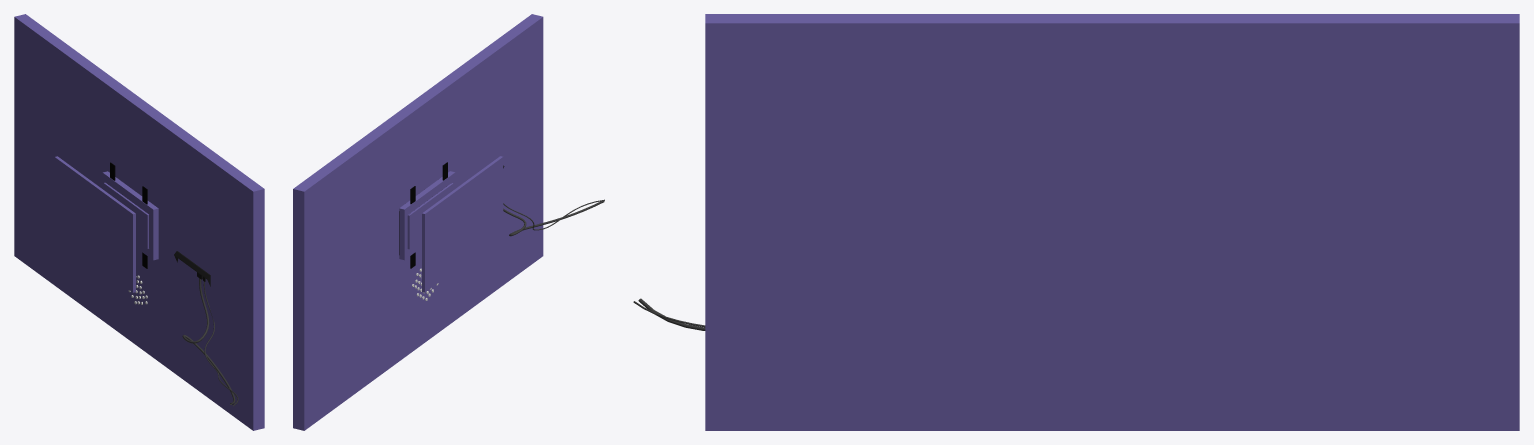
File: ecran_plat.fbx
3 views of the same model, side by side, from view 1: azimuth 30°, elevation 25°; view 2: azimuth 150°, elevation 25°; view 3: azimuth 270°, elevation 25° (orthographic). The views are drawn at different scales.
Parts seen in each view (by area): view 1: UTM_Body, UTM_support_mur, UTM_support01, UTM_support02, Cable_02_LOD0, Barre_Support_LOD0, Cover_branchements_LOD0; view 2: UTM_Body, UTM_support_mur, UTM_support01, UTM_support02, Cable_02_LOD0; view 3: UTM_Body.
Part boxes in pixels (x1=…): UTM_Body: x1=14, y1=14, x2=264, y2=430; UTM_support_mur: x1=54, y1=156, x2=135, y2=292; UTM_support01: x1=102, y1=171, x2=158, y2=260; UTM_support02: x1=103, y1=182, x2=149, y2=248; Cable_02_LOD0: x1=182, y1=278, x2=235, y2=404; Barre_Support_LOD0: x1=110, y1=162, x2=149, y2=268; Cover_branchements_LOD0: x1=174, y1=251, x2=210, y2=286; UTM_Body: x1=293, y1=14, x2=543, y2=430; UTM_support_mur: x1=422, y1=156, x2=503, y2=292; UTM_support01: x1=399, y1=171, x2=455, y2=260; UTM_support02: x1=407, y1=183, x2=453, y2=249; Cable_02_LOD0: x1=503, y1=200, x2=604, y2=236; UTM_Body: x1=705, y1=14, x2=1519, y2=430.
Bounding box in the file's own units: 23.98 × 102 × 202.
